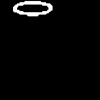chain: (13, 1, 51, 15)
